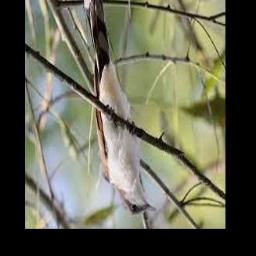Cuckoo: (83, 0, 157, 215)
